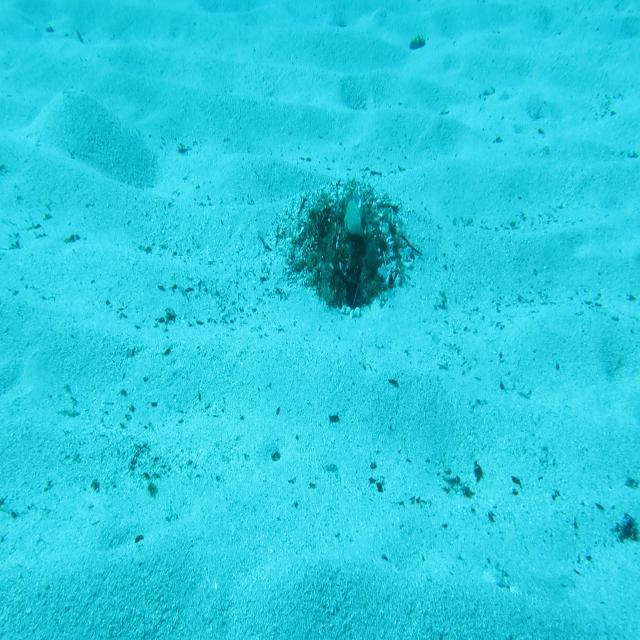NIP_CORE: (343, 195, 366, 240)
nest: (295, 181, 412, 317)
